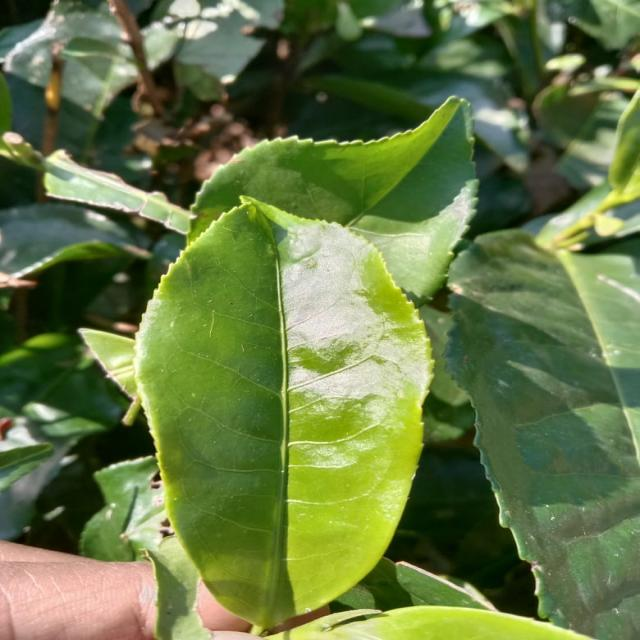Category B 2-4 days: (112, 191, 447, 617)
